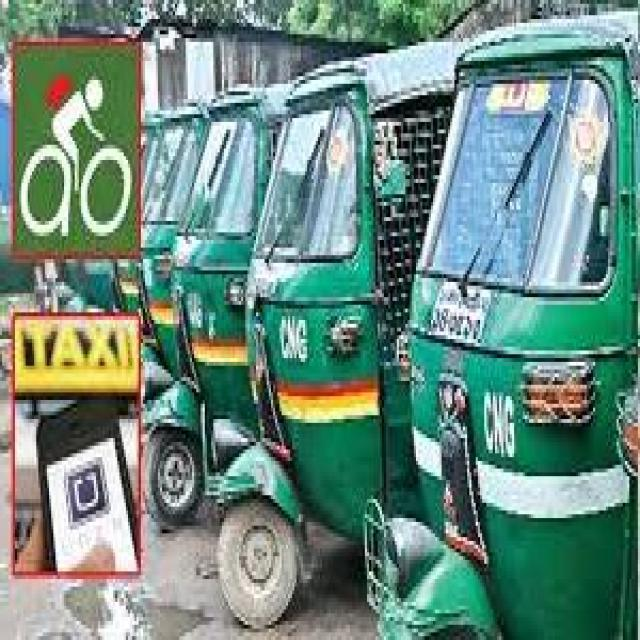CNG: (363, 19, 640, 640), (219, 39, 409, 640), (144, 95, 268, 543)
